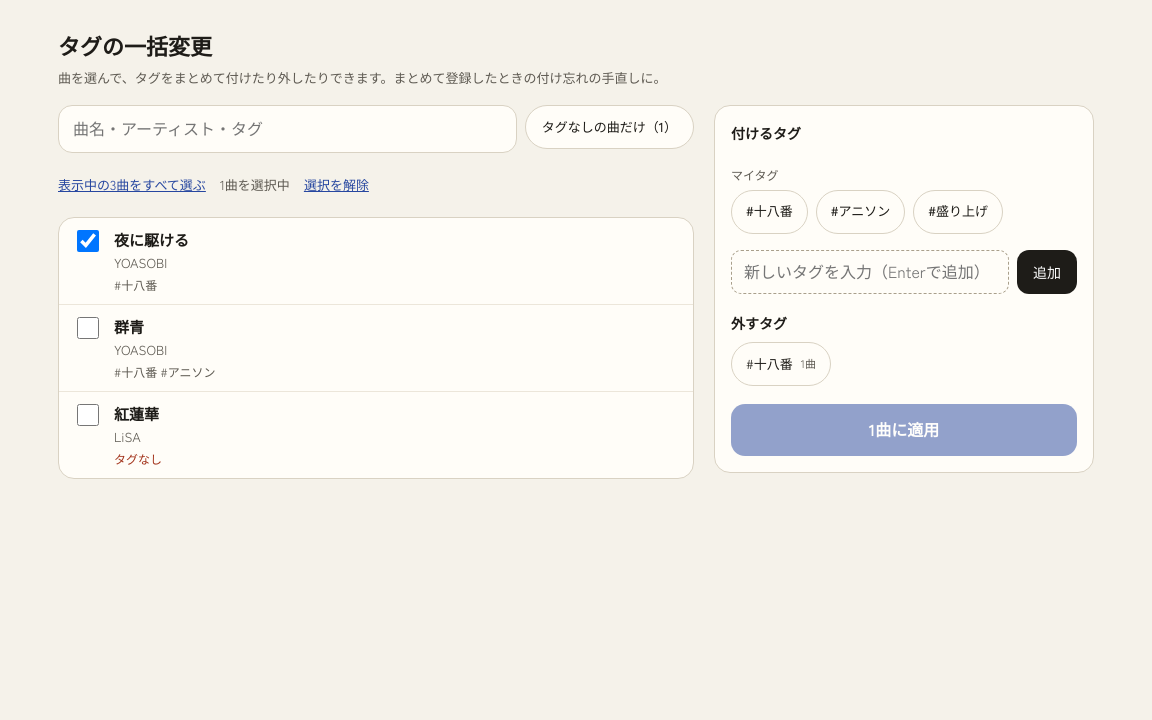
Test case: BulkEditScreen: タグの変更 › 失敗はメッセージを出す
The image size is (1152, 720).
Click the button "#盛り上げ": (958, 212) [913,190,1003,234]
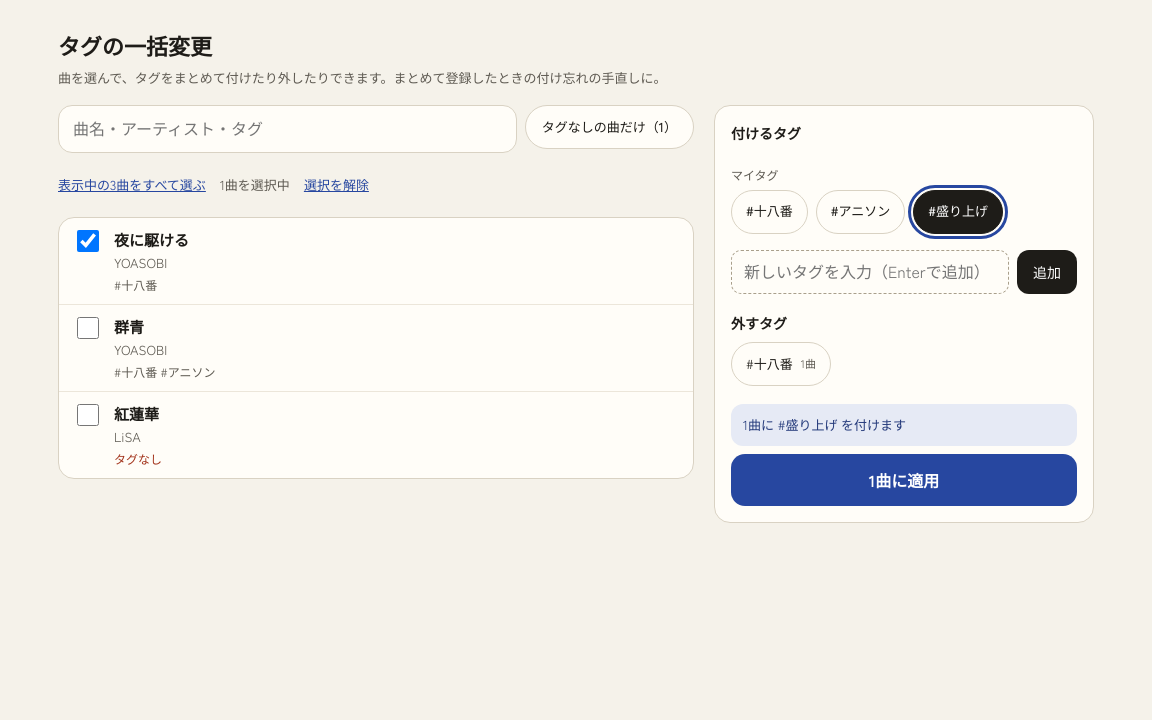
Click the button "1曲に適用": (904, 480) [731,454,1077,506]
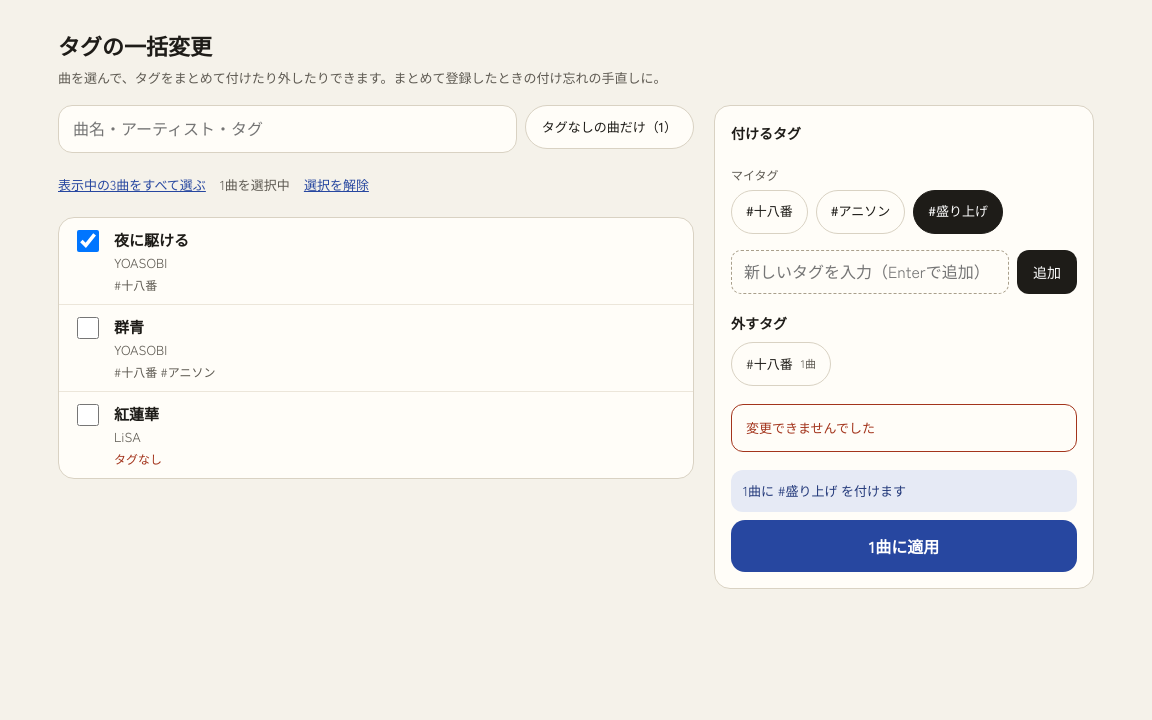
Expected: the message reads "変更できませんでした", [746,418,875,437]
